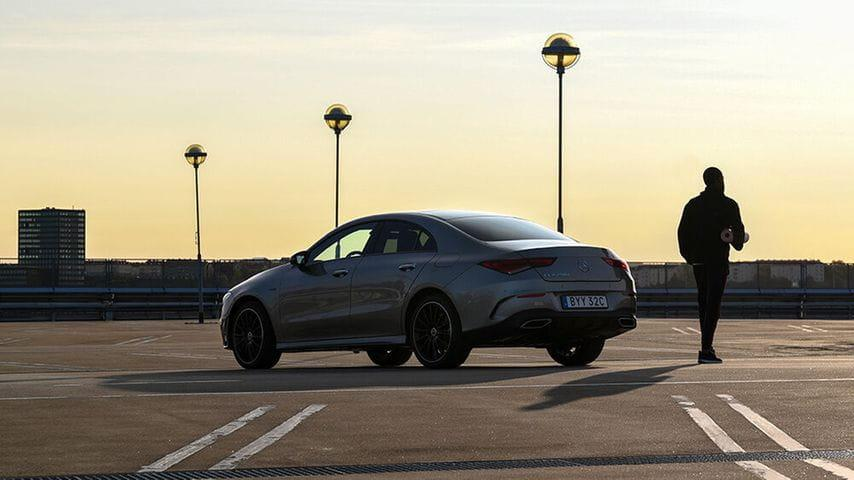license-plates: (557, 294, 610, 309)
